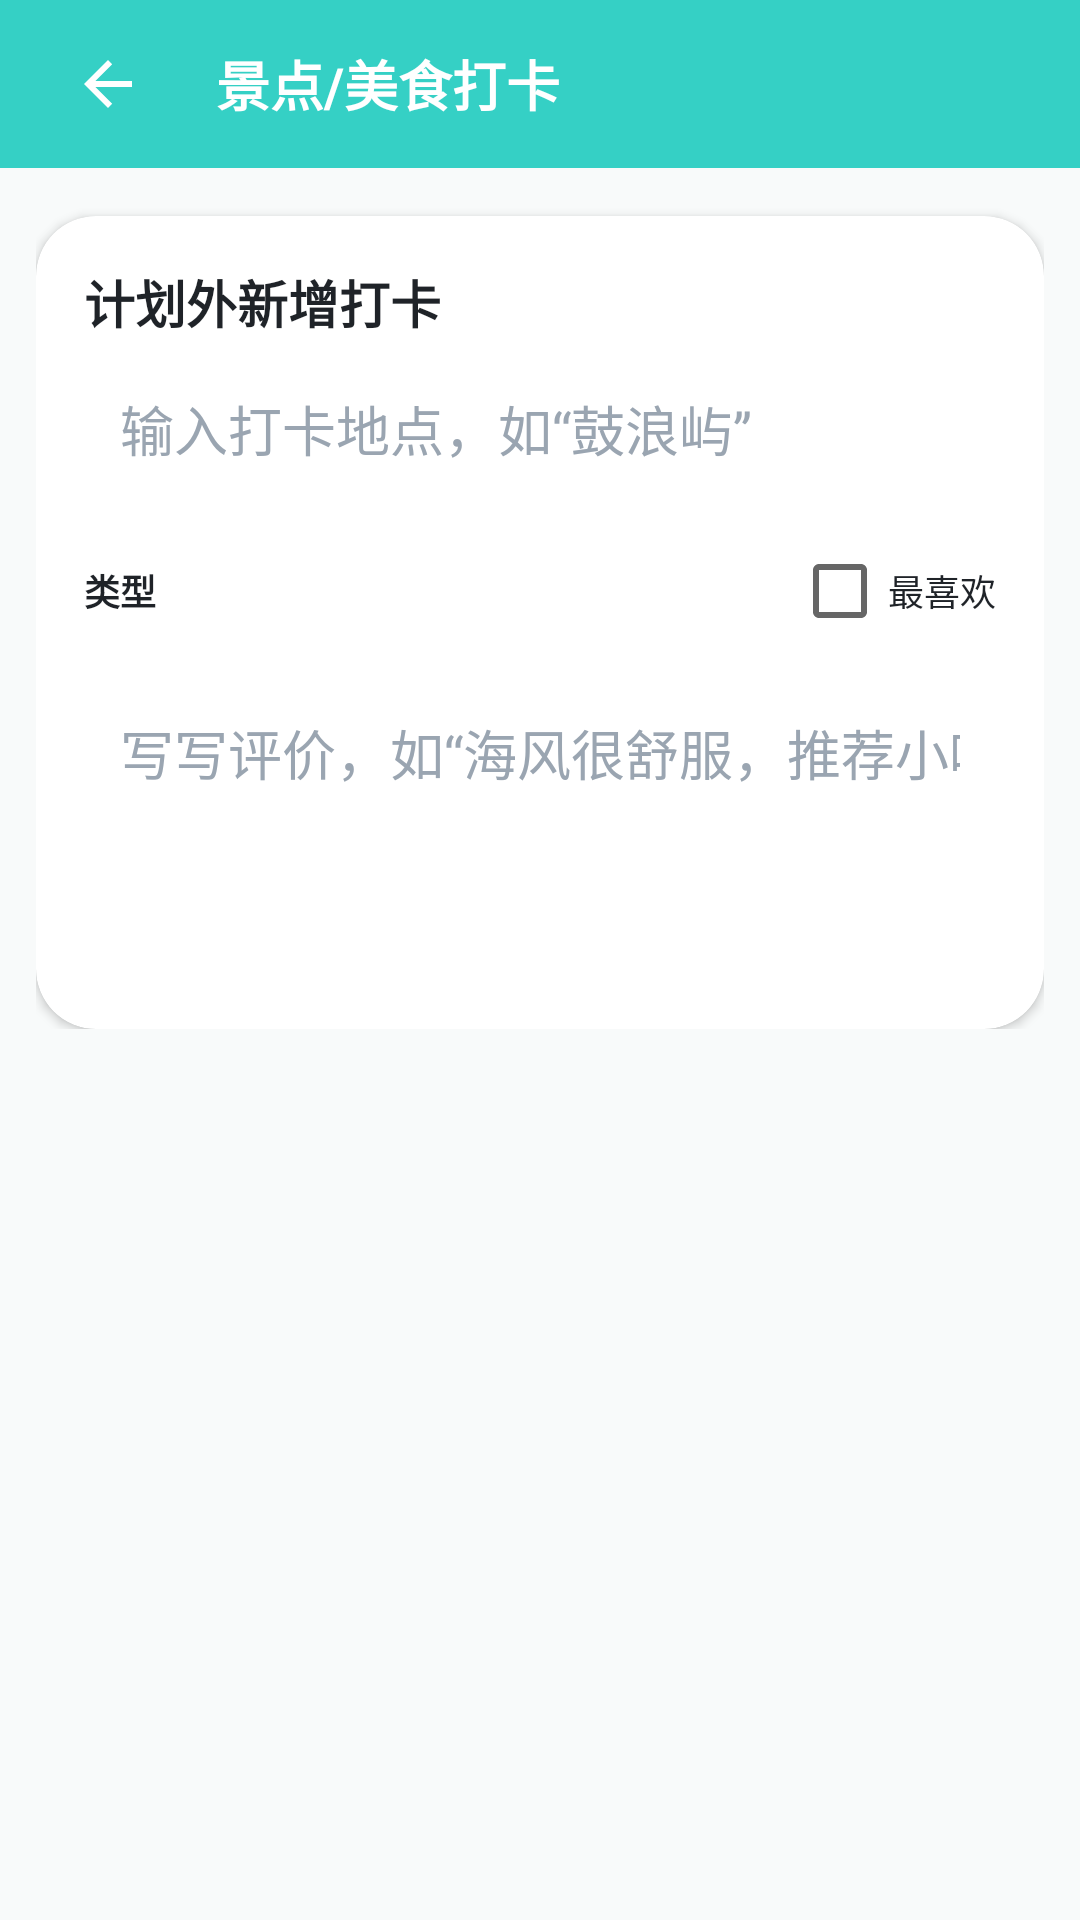

Locate icon controls on the screen. Image size 1080*1920, boxes as (x1,y1,x2,y2).
返回: (84,60,132,108)
